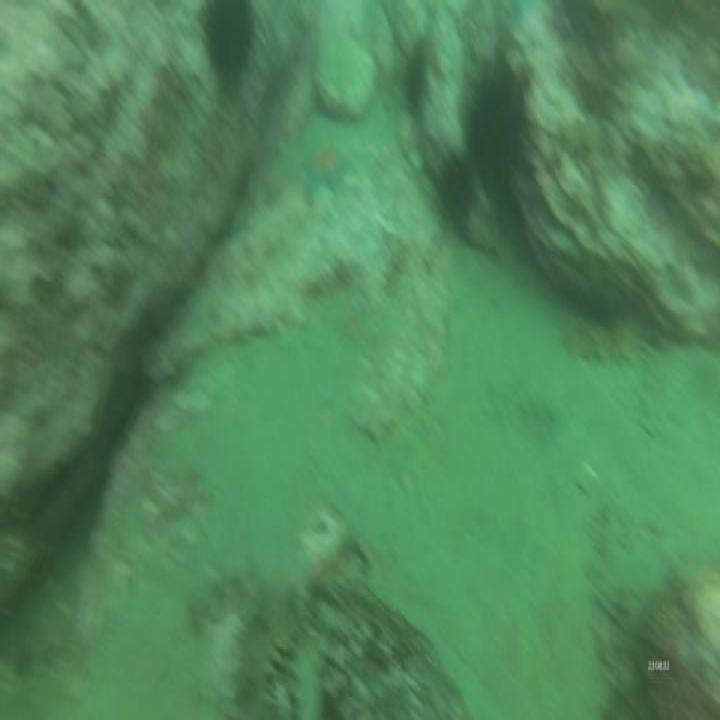echinus: (461, 46, 532, 169), (197, 0, 264, 94), (435, 144, 479, 238)
starfish: (302, 137, 352, 203)
